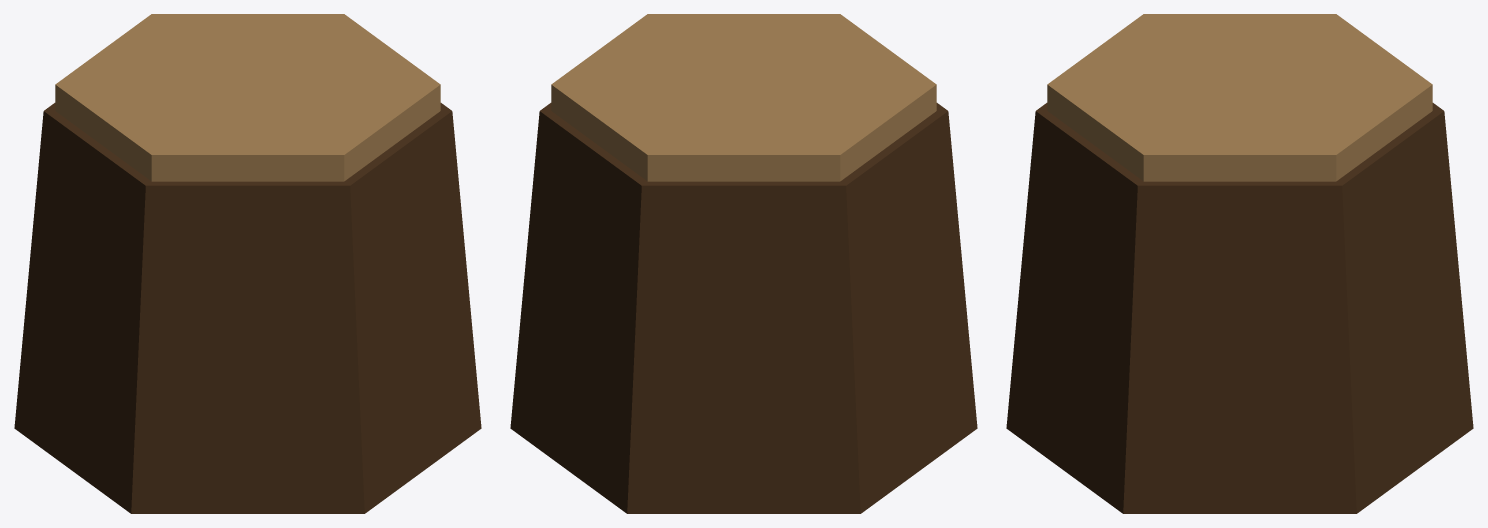
Rendered from stump.glb.
3 views of the same model, side by side, from view 1: azimuth 30°, elevation 25°; view 2: azimuth 150°, elevation 25°; view 3: azimuth 270°, elevation 25° (orthographic).
Parts seen in each view (by area): view 1: stump; view 2: stump; view 3: stump.
Boxes of the visible parts, x1,y1,x2,y2 form: stump: (14, 14, 481, 513); stump: (510, 14, 977, 513); stump: (1006, 14, 1473, 513).
Size of the model in its own units: 0.1386 by 0.13 by 0.16.
